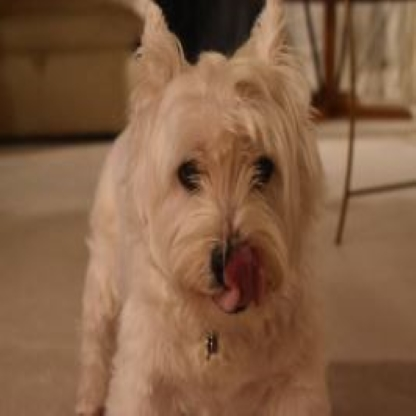maltese: (73, 1, 342, 413)
